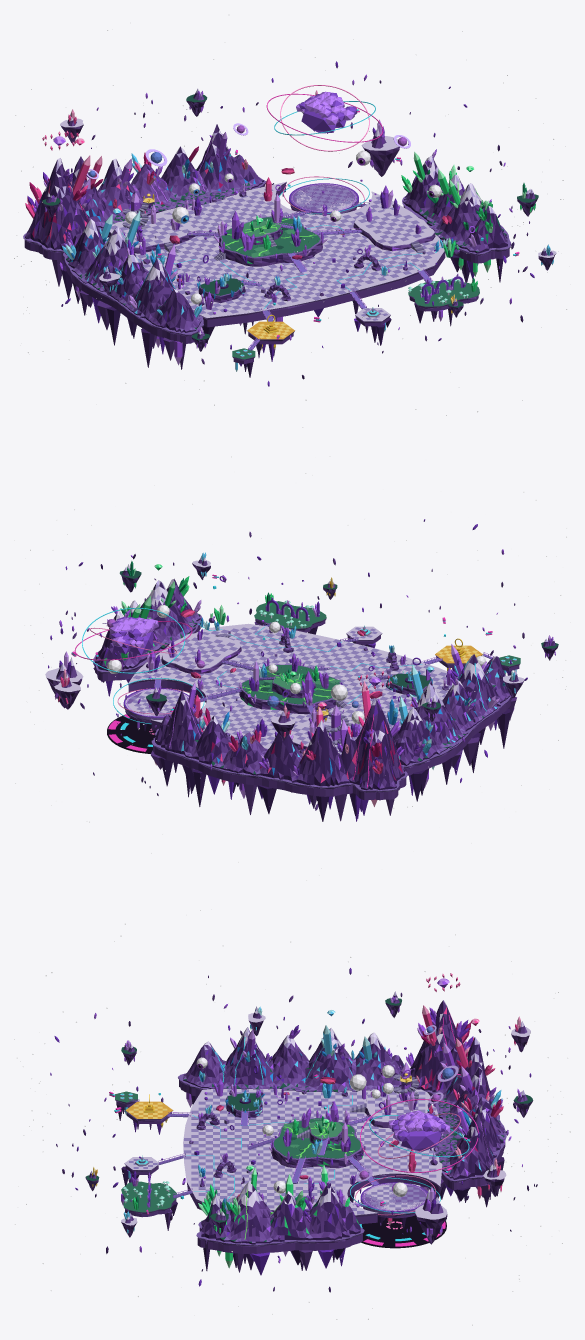
Rendered from Zone6_VoidBrainrot.fbx.
3 renders of one model, top to bottom at view 1: azimuth 30°, elevation 25°; view 2: azimuth 150°, elevation 25°; view 3: azimuth 270°, elevation 25°, orthographic.
Parts seen in each view (by area): view 1: Sol_Plateau, Decor_MassifBack_12, Decor_MassifLeft_01, Decor_MassifRight_21, Decor_MassifCorner_02, Decor_Sky_MassifBaseLeft, Decor_MassifBack_02, Sol_Under, Sol_Hill, Sol_Checker_21, Sol_TerraceR, Decor_MassifLeft_00 (+28 smaller); view 2: Sol_Plateau, Decor_MassifLeft_01, Decor_MassifBack_02, Decor_Sky_MassifBaseBack, Decor_MassifCorner_02, Decor_MassifBack_12, Decor_MassifRight_21, Decor_Sky_MassifBaseLeft, Sol_Hill, Decor_MassifLeft_02, Sol_Checker_21, Sol_TerraceR (+19 smaller); view 3: Sol_Plateau, Decor_MassifRight_21, Decor_MassifLeft_01, Decor_MassifBack_12, Decor_MassifCorner_02, Decor_Sky_MassifBaseRight, Decor_MassifBack_02, Sol_Hill, Sol_Checker_01, Decor_Sky_Brain, Decor_MassifLeft_02, Sol_Checker_11 (+25 smaller).
Part boxes in pixels (x1,y1,x2,y2): Sol_Plateau: [108, 182, 444, 317]; Decor_MassifBack_12: [131, 124, 263, 210]; Decor_MassifLeft_01: [78, 211, 177, 318]; Decor_MassifRight_21: [401, 149, 503, 241]; Decor_MassifCorner_02: [25, 155, 90, 250]; Decor_Sky_MassifBaseLeft: [61, 252, 203, 369]; Decor_MassifBack_02: [72, 156, 165, 228]; Sol_Under: [200, 182, 445, 343]; Sol_Hill: [219, 216, 322, 266]; Sol_Checker_21: [317, 203, 439, 261]; Sol_TerraceR: [353, 210, 435, 251]; Decor_MassifLeft_00: [145, 287, 202, 332]; Sol_Plateau: [128, 623, 457, 755]; Decor_MassifLeft_01: [409, 644, 500, 748]; Decor_MassifBack_02: [242, 707, 349, 786]; Decor_Sky_MassifBaseBack: [150, 729, 356, 821]; Decor_MassifCorner_02: [337, 681, 405, 790]; Decor_MassifBack_12: [155, 682, 267, 773]; Decor_MassifRight_21: [95, 580, 195, 669]; Decor_Sky_MassifBaseLeft: [402, 695, 516, 801]; Sol_Hill: [239, 664, 340, 714]; Decor_MassifLeft_02: [393, 696, 447, 765]; Sol_Checker_21: [141, 632, 272, 689]; Sol_TerraceR: [161, 633, 241, 673]; Sol_Plateau: [183, 1089, 442, 1215]; Decor_MassifRight_21: [229, 1165, 353, 1244]; Decor_MassifLeft_01: [230, 1025, 352, 1092]; Decor_MassifBack_12: [435, 1090, 504, 1179]; Decor_MassifCorner_02: [406, 1000, 473, 1094]; Decor_Sky_MassifBaseRight: [196, 1222, 364, 1275]; Decor_MassifBack_02: [438, 1037, 502, 1127]; Sol_Hill: [271, 1117, 363, 1168]; Sol_Checker_01: [234, 1089, 349, 1128]; Decor_Sky_Brain: [388, 1110, 450, 1151]; Decor_MassifLeft_02: [351, 1032, 404, 1091]; Sol_Checker_11: [234, 1129, 349, 1177].
Bounding box in the file's own units: 93082 × 41476 × 92819.
Materials: 1 (1 with a texture image).
